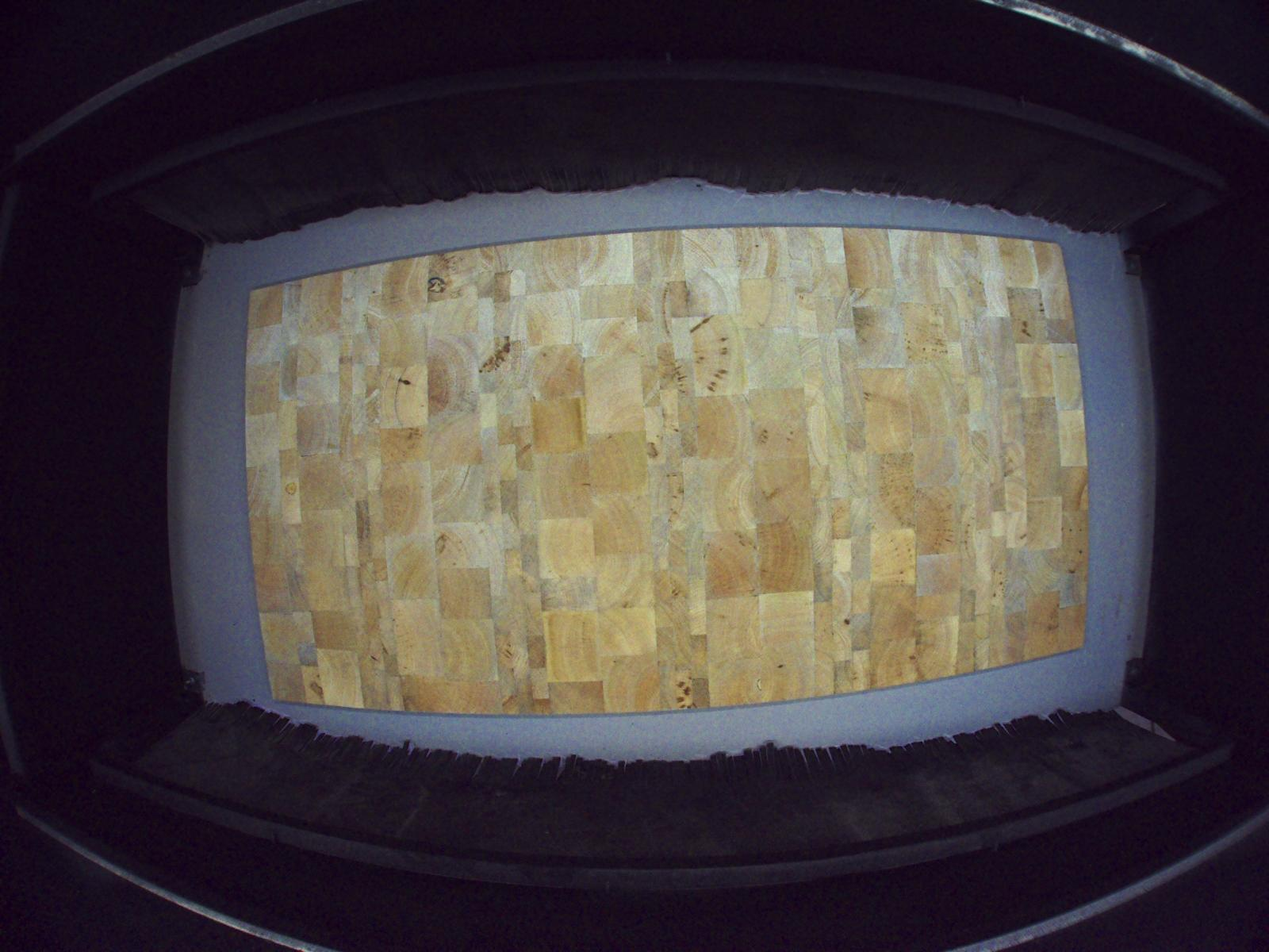sheck_ecuatoriano: (393, 366, 413, 429)
